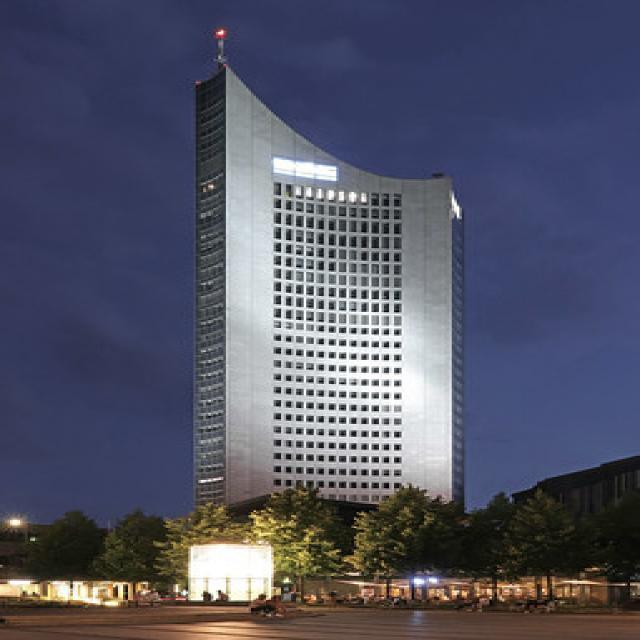Normal_building: (184, 39, 466, 526)
